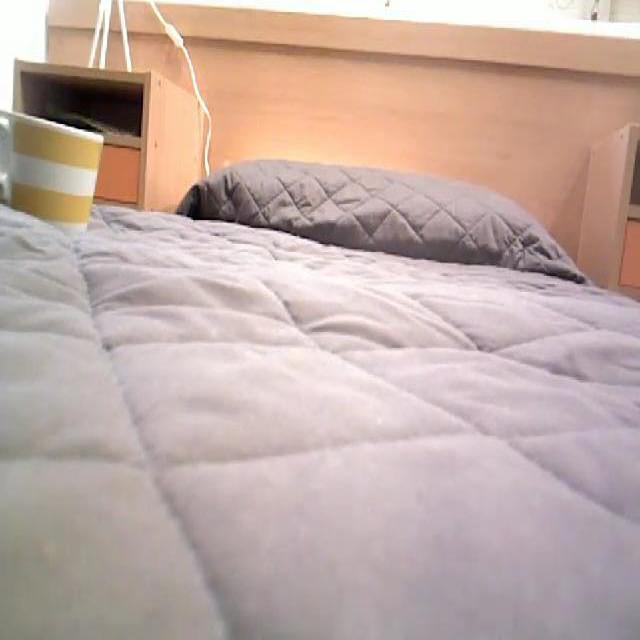cup: (0, 109, 103, 243)
